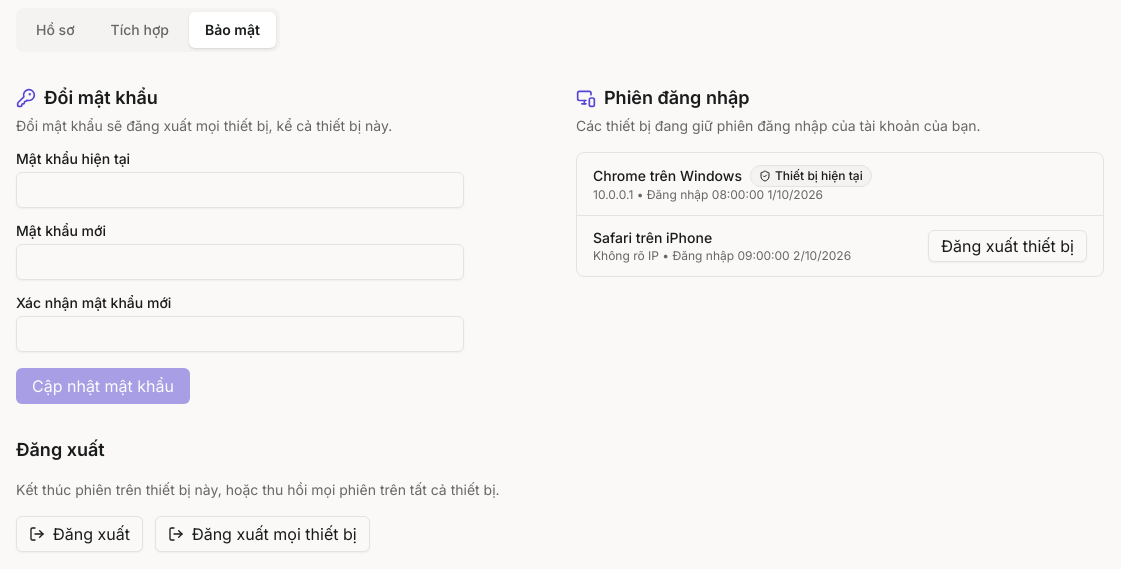
IdentitySecurityPage — devices › revokes another device and refetches the list
The width and height of the screenshot is (1121, 569).
Click the button "Đăng xuất thiết bị" at (1008, 246), box [928,230,1087,262]
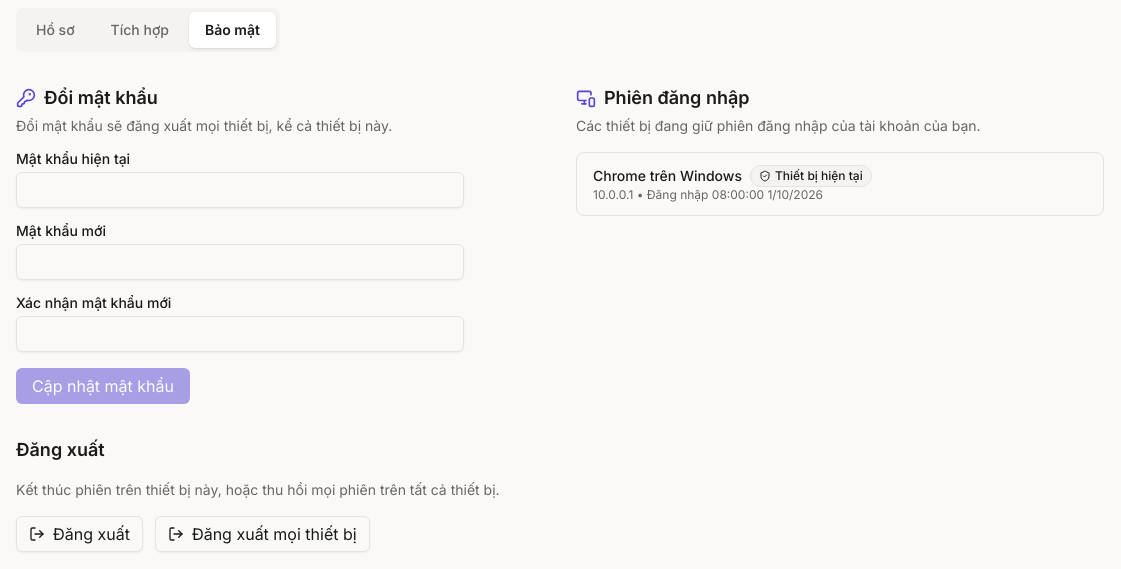
Check: the text "Safari trên iPhone" is gone
